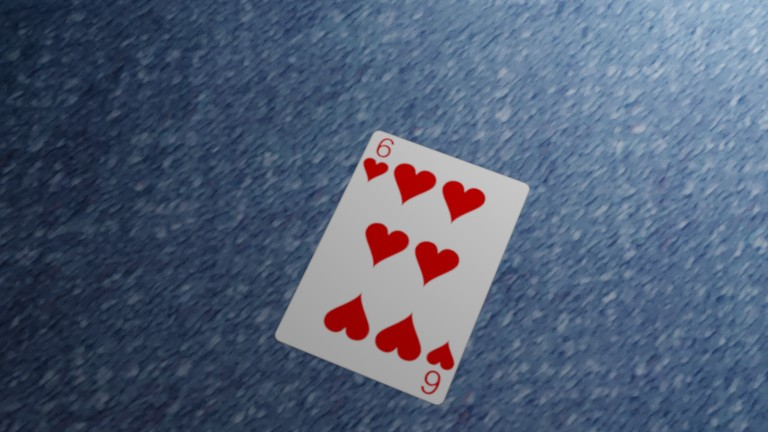6_of_hearts: (409, 335, 463, 402), (353, 133, 403, 189)
